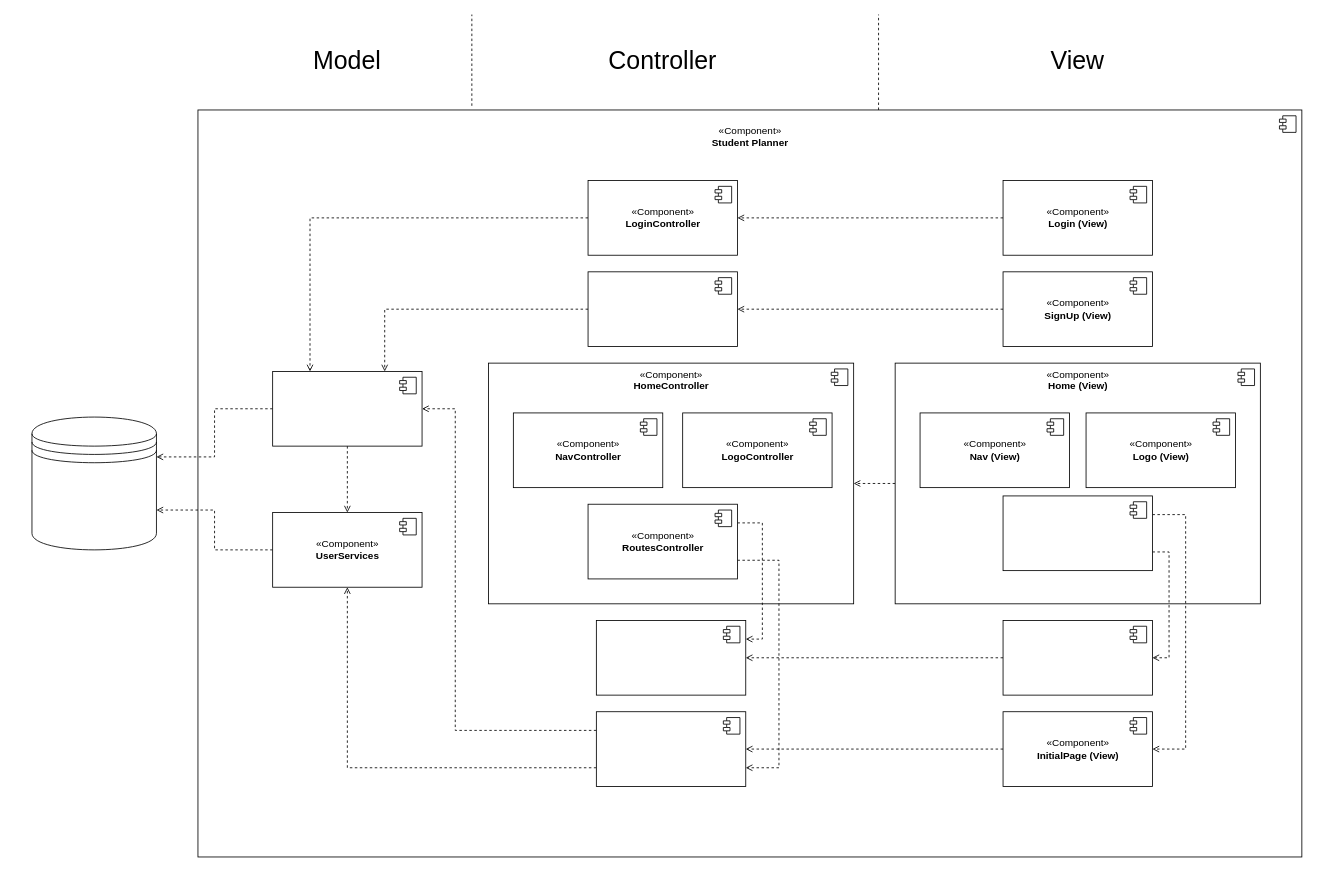
Some shapes in this 1336 by 894 pixel diagram are drawn without their labels. Each missing label, with the centre of its shape:
Data Base Firebase: the point at 93,483
«Component» AuthContext: the point at 347,408
«Component» Form (View): the point at 1077,657
«Component» FormController: the point at 671,748
«Component» InitialPageController: the point at 671,657
«Component» Routes ( View ): the point at 1077,533
«Component» SignUpController: the point at 662,309
